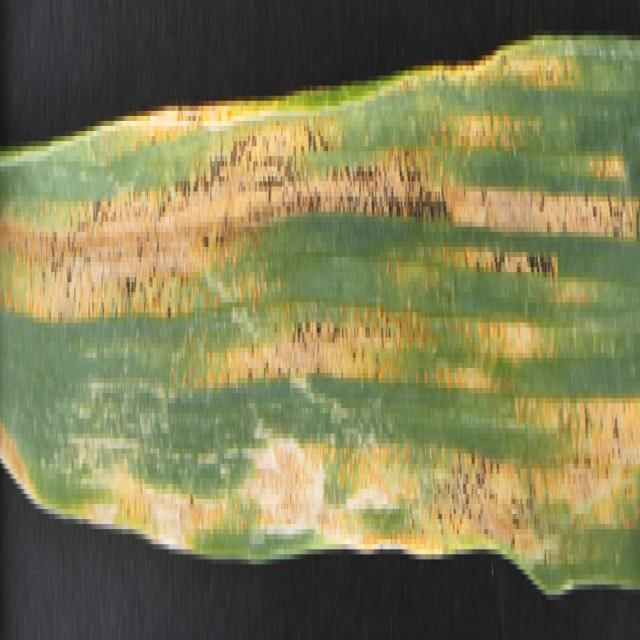leaf rust: (3, 56, 638, 529)
